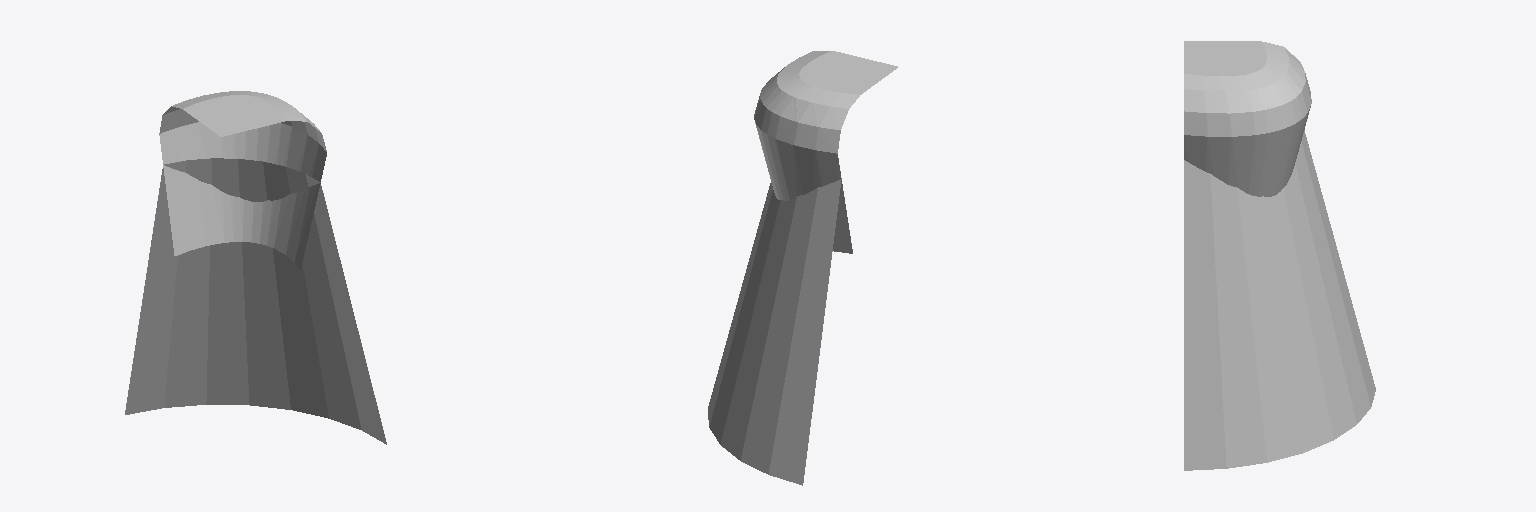
The model's file is Terrain_Cliff_Corner_Outer_1x1.obj.
3 renders of one model, left to right at view 1: azimuth 30°, elevation 25°; view 2: azimuth 150°, elevation 25°; view 3: azimuth 270°, elevation 25°, orthographic.
Visible parts, largest first — view 1: object1, object2; view 2: object1, object2; view 3: object1, object2.
Boxes of the visible parts, x1=… form: object1: x1=125, y1=158, x2=386, y2=444; object2: x1=159, y1=91, x2=326, y2=270; object1: x1=708, y1=179, x2=841, y2=485; object2: x1=754, y1=51, x2=897, y2=253; object1: x1=1184, y1=130, x2=1375, y2=470; object2: x1=1184, y1=41, x2=1311, y2=196.
Bounding box in the file's own units: 1.25 × 2.5 × 1.25.